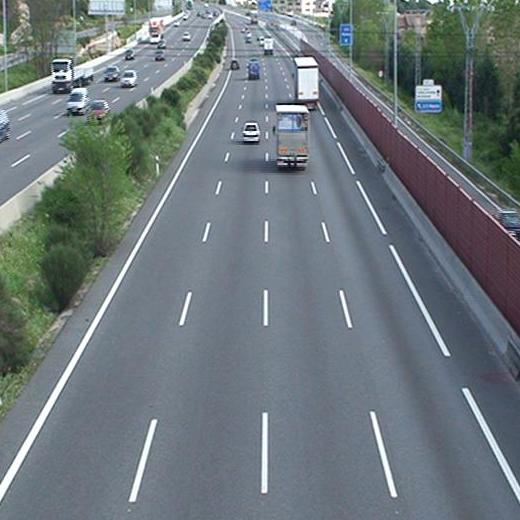car: (241, 123, 260, 142), (229, 58, 237, 69)
small-truck: (271, 106, 310, 168), (263, 37, 275, 56)
truck: (290, 56, 320, 101)
van: (249, 63, 259, 82)
